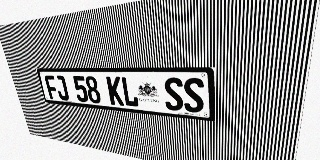5: (72, 76, 89, 102)
8: (84, 76, 101, 104)
F: (44, 75, 59, 100)
J: (54, 75, 70, 101)
K: (106, 76, 124, 106)
L: (120, 77, 139, 107)
S: (183, 78, 204, 113), (163, 77, 184, 111)
